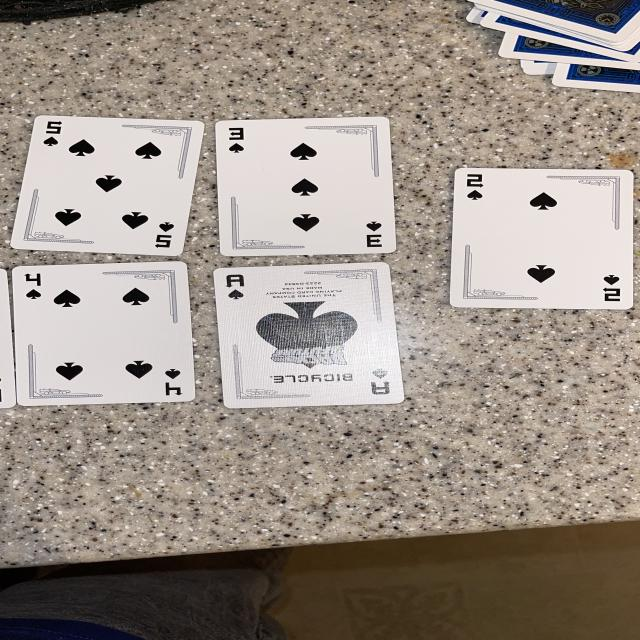3 of spades: (216, 116, 396, 256)
4 of spades: (11, 261, 196, 406)
5 of spades: (11, 115, 204, 256)
Ace of spades: (213, 262, 404, 409), (449, 169, 633, 309)
